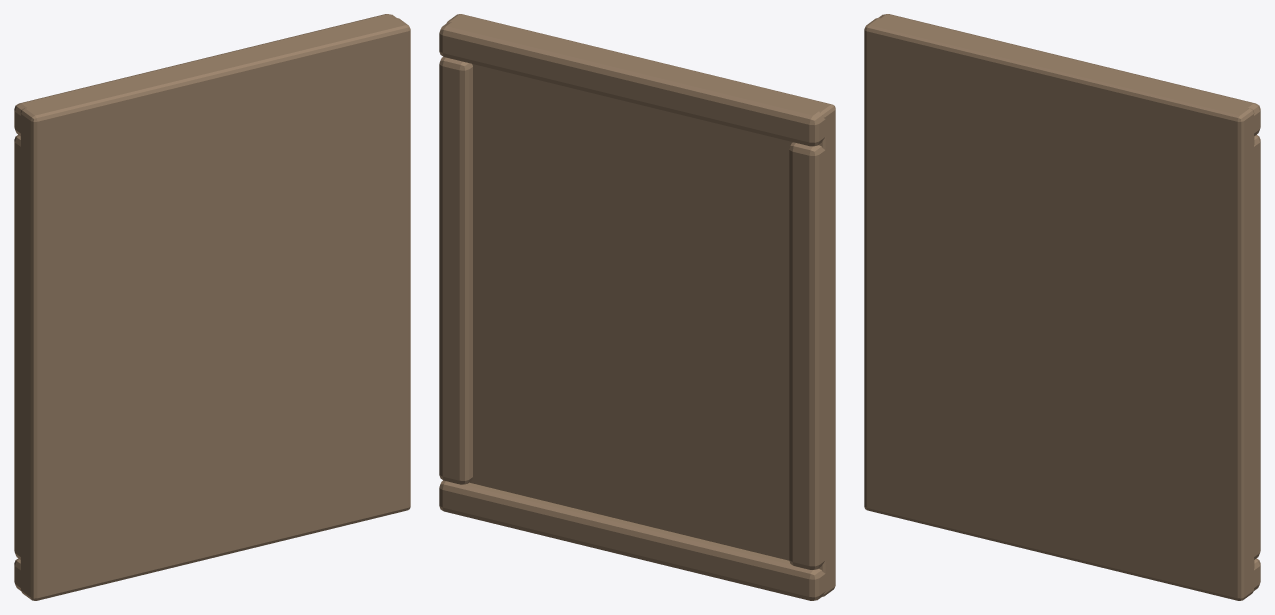
File: portrait-frame.glb
The picture shows the model from 3 angles, left to right: view 1: azimuth 30°, elevation 25°; view 2: azimuth 150°, elevation 25°; view 3: azimuth 330°, elevation 25°; orthographic projection.
Parts seen in each view (by area): view 1: portrait_frame; view 2: portrait_frame; view 3: portrait_frame.
Part boxes in pixels (x1=…): portrait_frame: x1=14, y1=14, x2=410, y2=600; portrait_frame: x1=439, y1=14, x2=835, y2=600; portrait_frame: x1=864, y1=14, x2=1260, y2=600.
Size of the model in its own units: 0.9 by 1.1 by 0.09.
